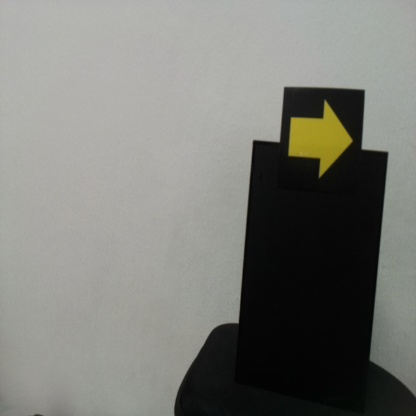id_3: (282, 89, 364, 191)
